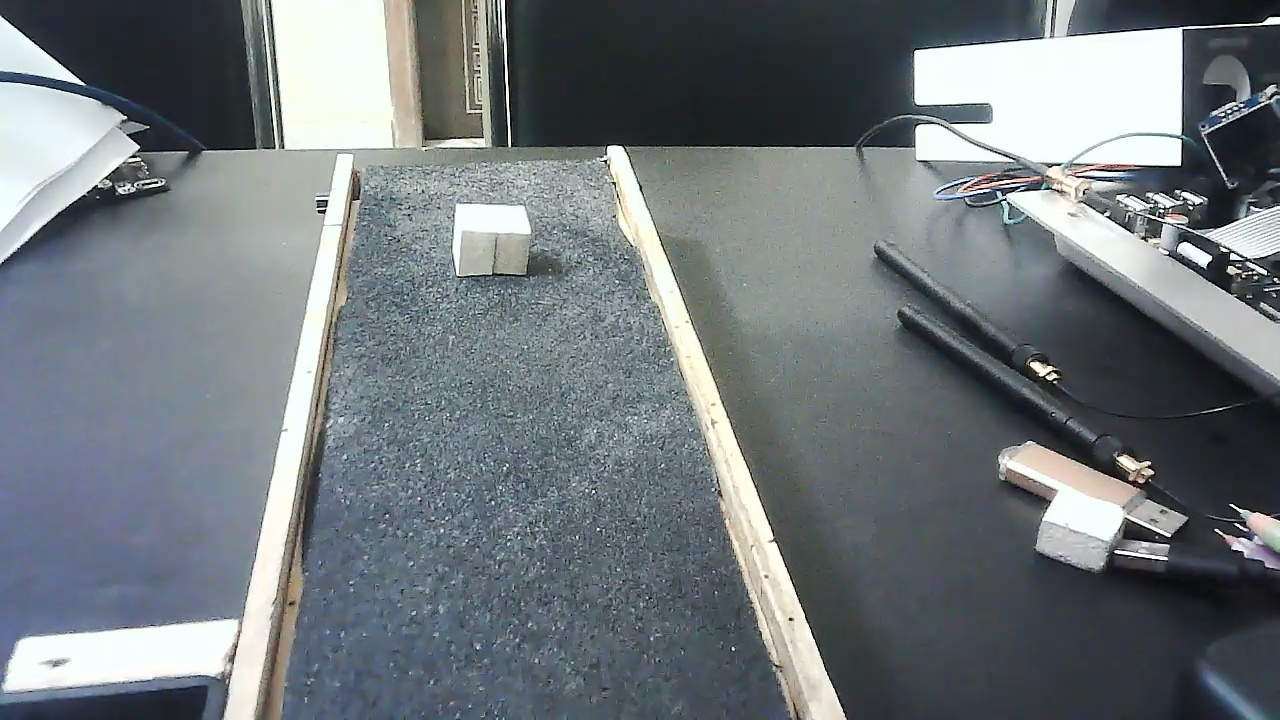Small: (452, 199, 533, 280)
